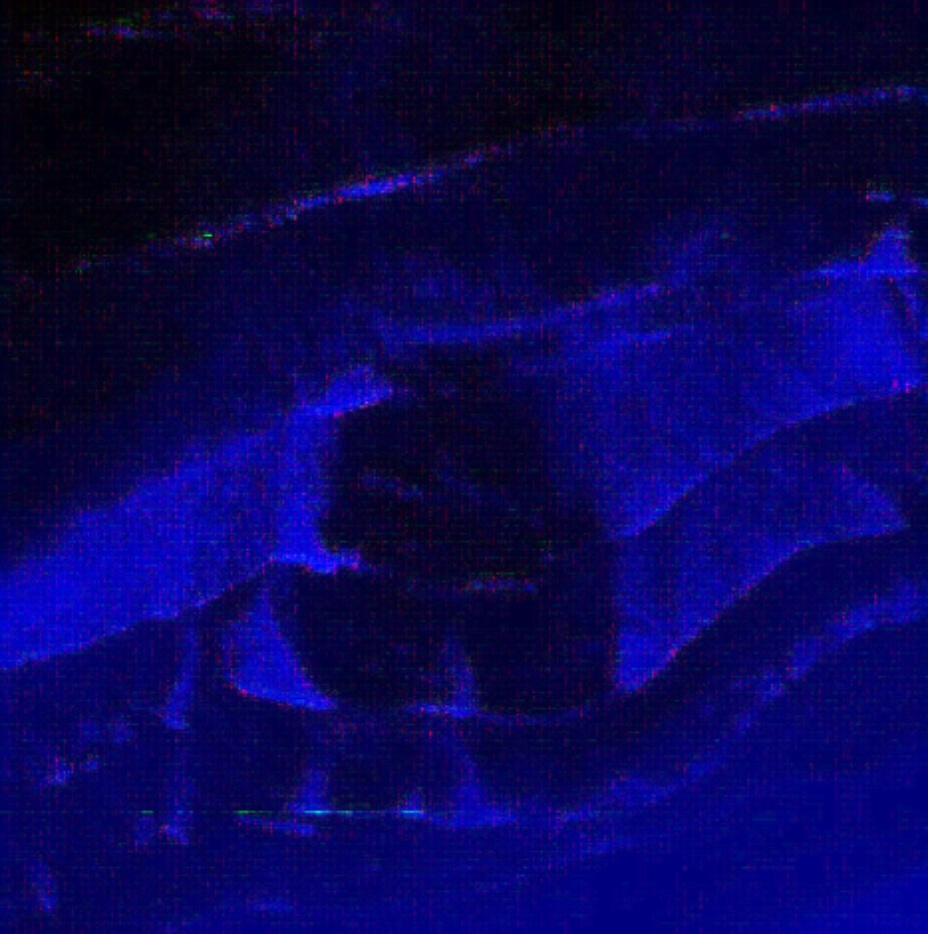rip_current: (251, 160, 662, 806)
